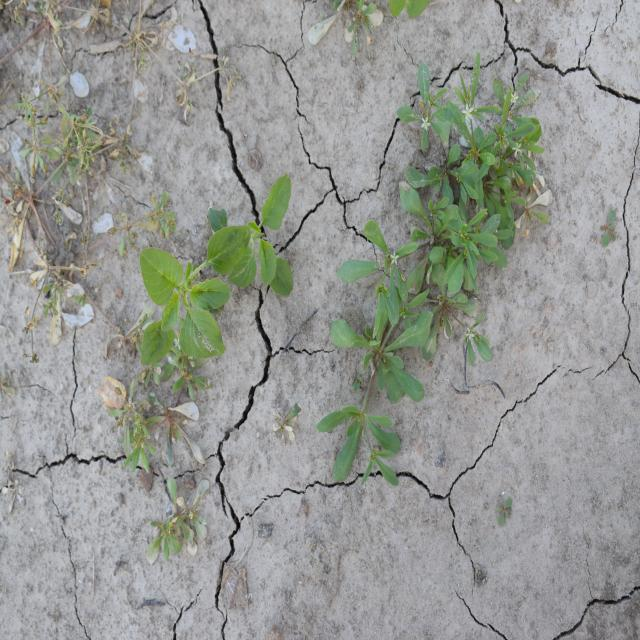Carpetweed: (316, 51, 555, 490), (1, 2, 245, 372), (104, 368, 208, 479), (143, 471, 212, 568), (306, 2, 386, 57)
PalmerAmaranth: (139, 171, 295, 369)
